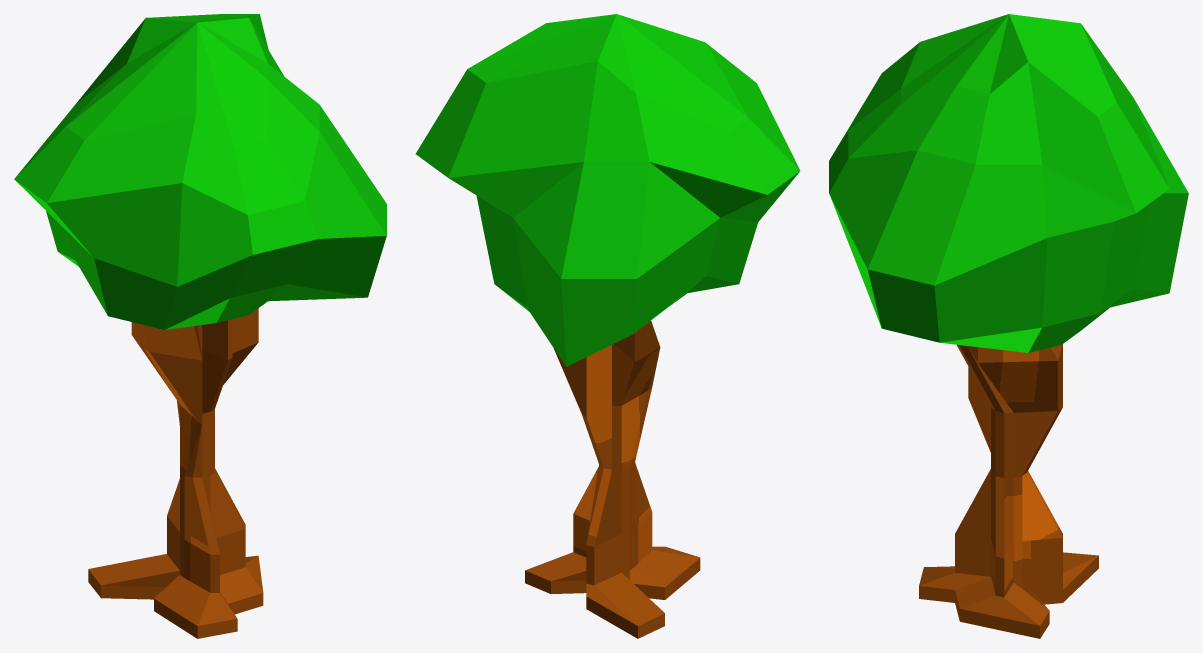
File: arbre.gltf
3 views of the same model, side by side, from view 1: azimuth 30°, elevation 25°; view 2: azimuth 150°, elevation 25°; view 3: azimuth 270°, elevation 25° (orthographic).
Parts seen in each view (by area): view 1: cylinder; view 2: cylinder; view 3: cylinder.
Boxes of the visible parts, x1,y1,x2,y2 form: cylinder: (14, 14, 386, 638); cylinder: (415, 14, 800, 638); cylinder: (829, 14, 1188, 638).
Size of the model in its own units: 0.654 by 1.12 by 0.625.
2 materials, 2 textured.
